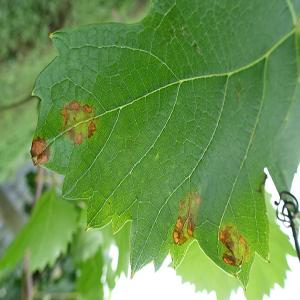Folha: (29, 0, 299, 292)
Fungo: (30, 99, 98, 167), (60, 100, 96, 146), (172, 190, 201, 245), (218, 222, 248, 268), (61, 100, 92, 125), (30, 135, 50, 167), (180, 25, 200, 55), (172, 216, 188, 245), (219, 224, 234, 252), (221, 249, 243, 268), (64, 100, 92, 113), (257, 172, 267, 194), (238, 235, 248, 255), (222, 252, 236, 266), (86, 121, 96, 138), (178, 230, 188, 244), (61, 108, 69, 124), (186, 221, 194, 236), (74, 132, 82, 146), (175, 217, 183, 230), (193, 192, 201, 205), (67, 128, 75, 140), (173, 230, 179, 244), (84, 102, 92, 112), (64, 100, 72, 110), (72, 100, 79, 110), (239, 254, 243, 268)
